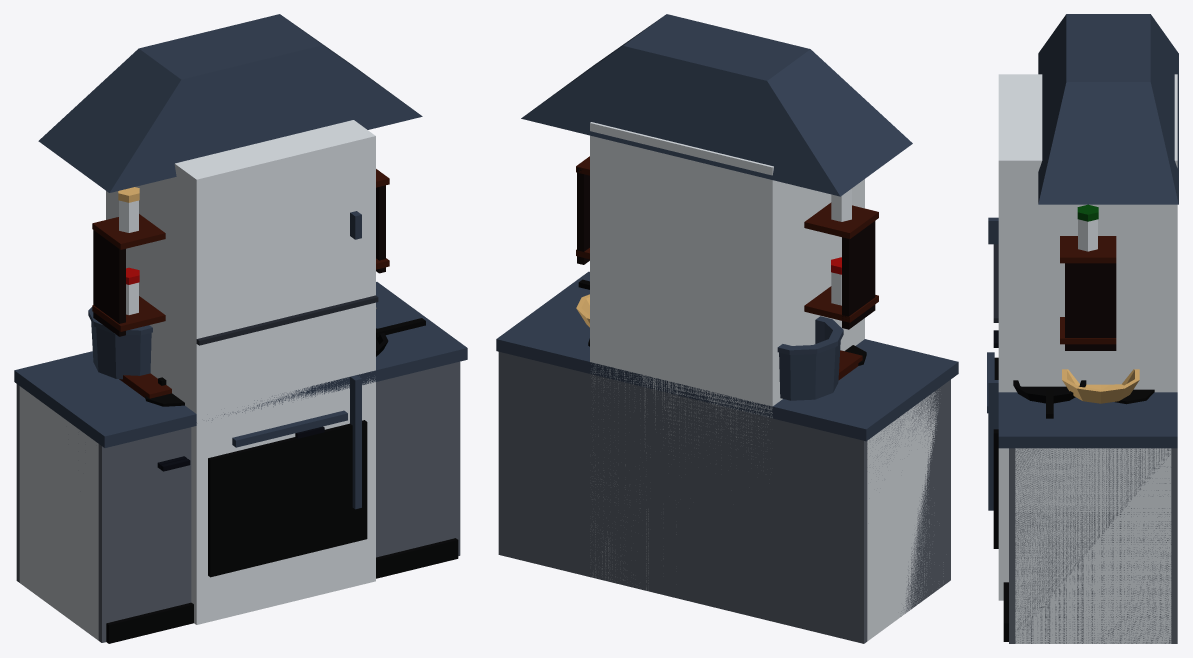
The model's file is kitchen_kit.glb.
The picture shows the model from 3 angles, left to right: view 1: azimuth 30°, elevation 25°; view 2: azimuth 150°, elevation 25°; view 3: azimuth 270°, elevation 25°; orthographic projection. The views are drawn at different scales.
Visible parts, largest first — view 1: SM_KT_Stove, SM_KT_Fridge, SM_KT_Prep, SM_KT_Spices, SM_KT_Sink; view 2: SM_KT_Stove, SM_KT_Fridge, SM_KT_Prep, SM_KT_Spices, SM_KT_Sink; view 3: SM_KT_Stove, SM_KT_Prep, SM_KT_Fridge, SM_KT_Spices, SM_KT_Sink.
Part boxes in pixels (left/top/right/bottom): SM_KT_Stove: left=14, top=14, right=467, bottom=643; SM_KT_Fridge: left=106, top=120, right=378, bottom=624; SM_KT_Prep: left=18, top=305, right=463, bottom=640; SM_KT_Spices: left=92, top=169, right=389, bottom=336; SM_KT_Sink: left=62, top=325, right=406, bottom=422; SM_KT_Stove: left=496, top=14, right=958, bottom=643; SM_KT_Fridge: left=590, top=122, right=864, bottom=590; SM_KT_Prep: left=500, top=274, right=944, bottom=641; SM_KT_Spices: left=576, top=156, right=878, bottom=329; SM_KT_Sink: left=776, top=341, right=909, bottom=415; SM_KT_Stove: left=987, top=14, right=1178, bottom=643; SM_KT_Prep: left=1005, top=369, right=1171, bottom=643; SM_KT_Fridge: left=988, top=74, right=1177, bottom=600; SM_KT_Spices: left=1060, top=204, right=1116, bottom=350; SM_KT_Sink: left=1005, top=392, right=1171, bottom=414.
Size of the model in its own units: 1.62 by 2.2 by 0.75.
6 materials, 6 textured.
